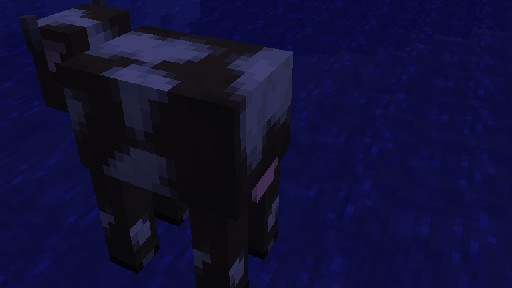cow: (18, 0, 293, 288)
